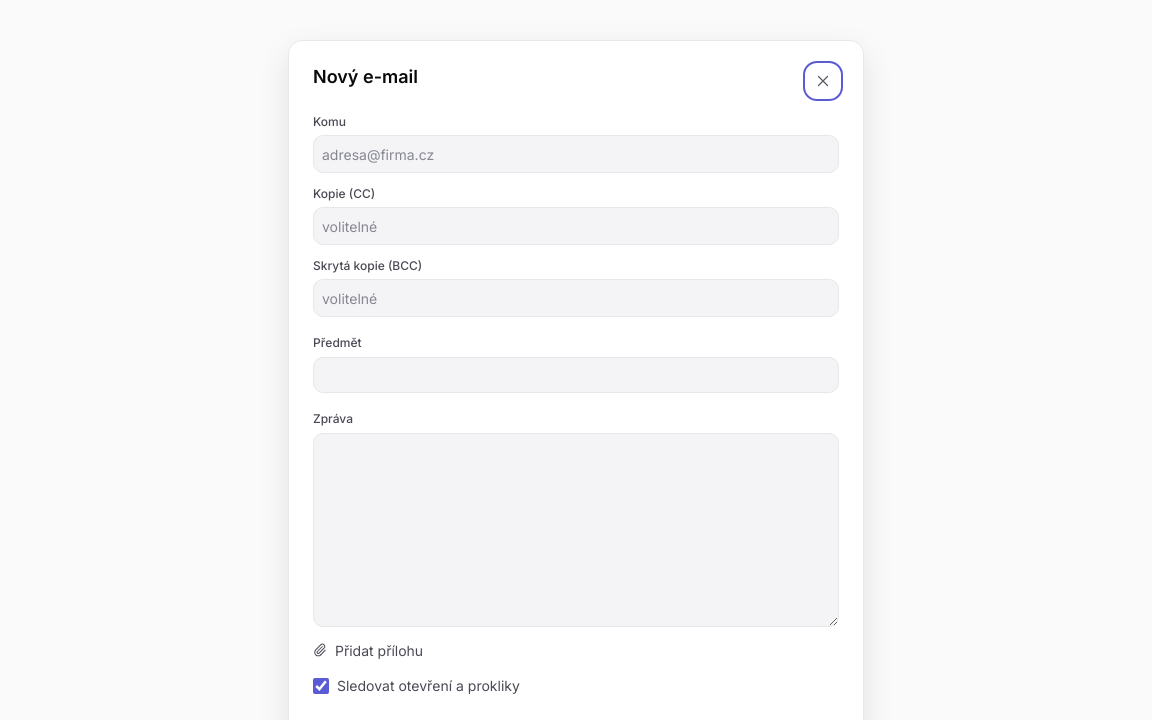
Scenario: EmailComposeModal — company contact recipients › suggests the company's contacts on focus and picking one adds a chip
Focus the dropdown with test id "email-compose-to-input". click: (576, 154)
box: [322, 142, 830, 166]
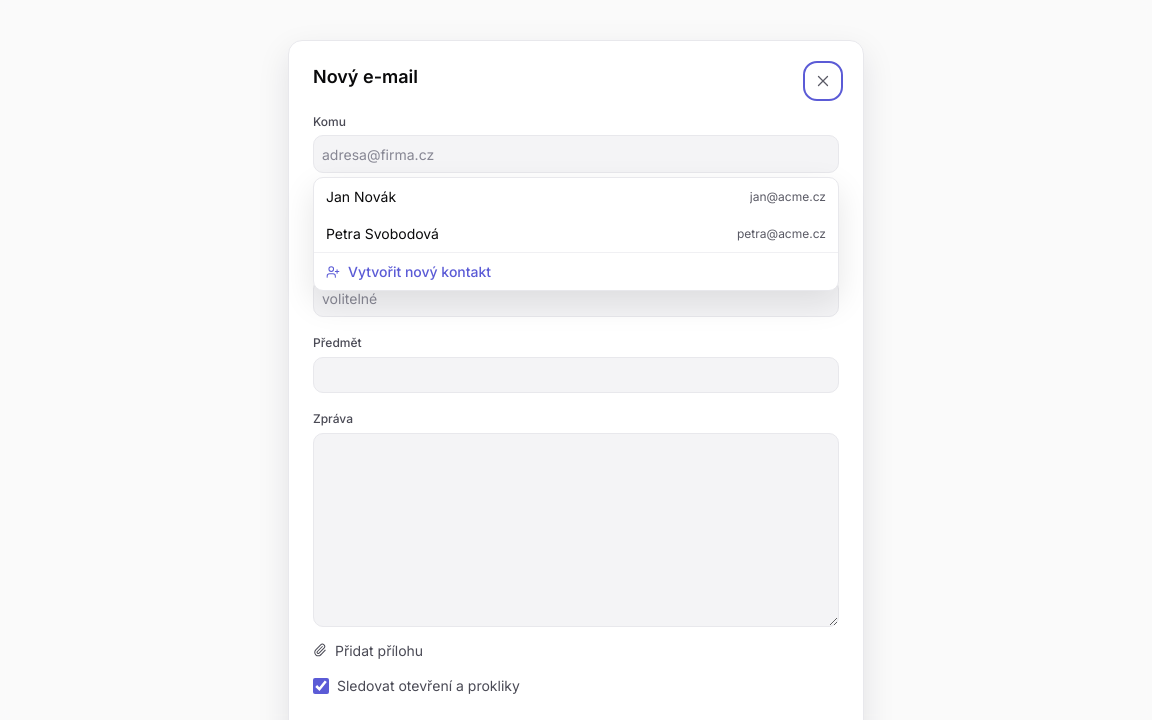
Click the option "Jan Novák jan@acme.cz". click: click(375, 196)
box: [314, 178, 838, 215]
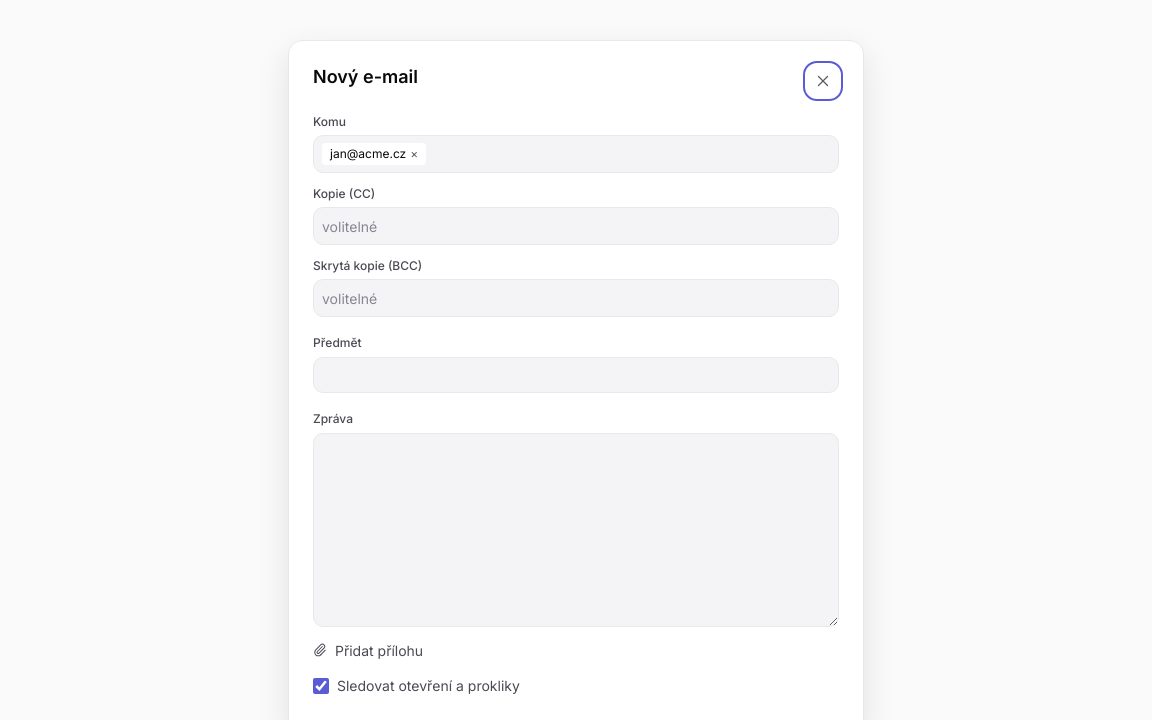
Check: the dropdown with test id "email-compose-to-input" is empty, box [430, 142, 830, 166]
Check: the text "jan@acme.cz" is shown, box [330, 146, 406, 161]
